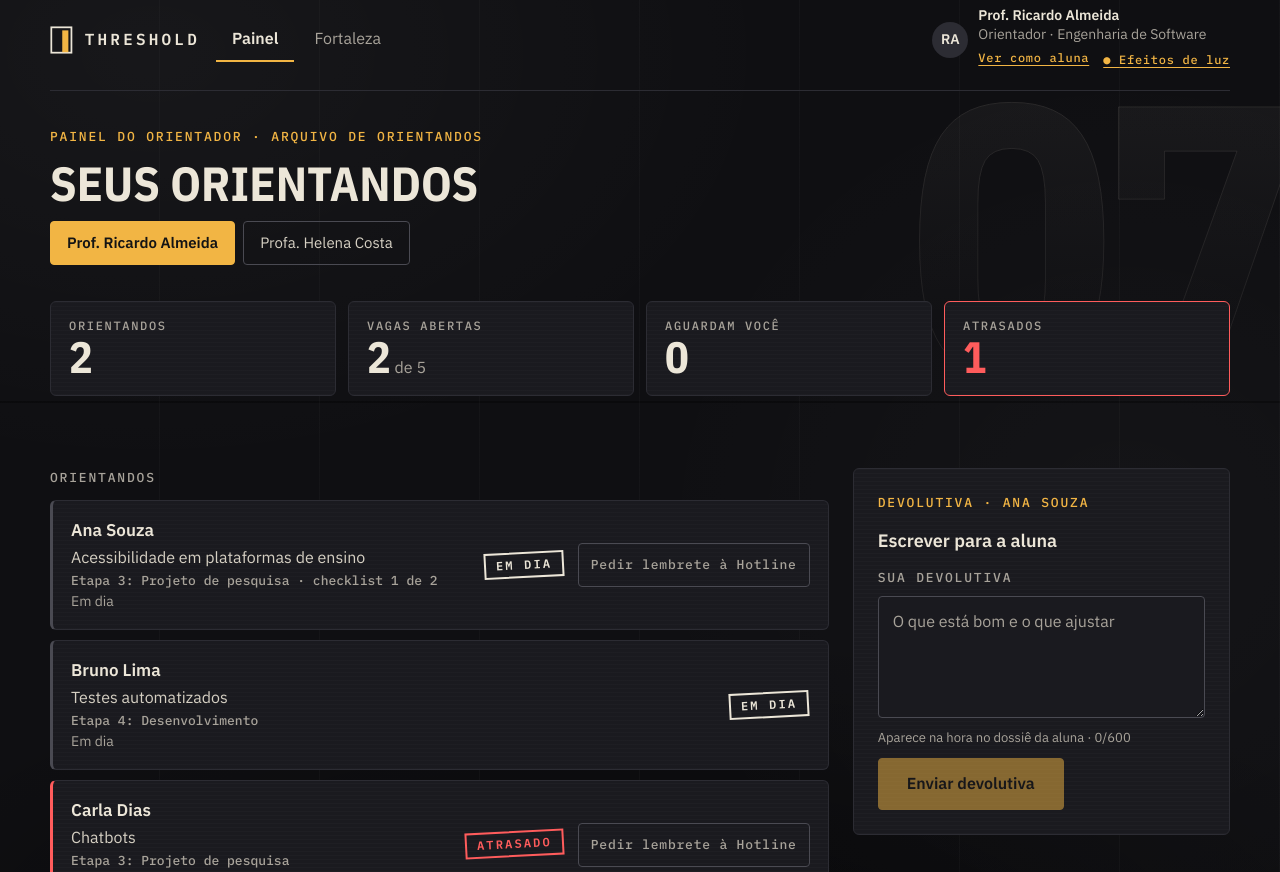
Test: Painel do orientador › enviar devolutiva: botão só liga com texto, manda ao servidor e limpa o campo
Expected: the button "Enviar devolutiva" is disabled, [878,758,1064,810]
Type "Bom recorte." into the text box labelled "Sua devolutiva" at (1041, 657), box [878,596,1205,718]
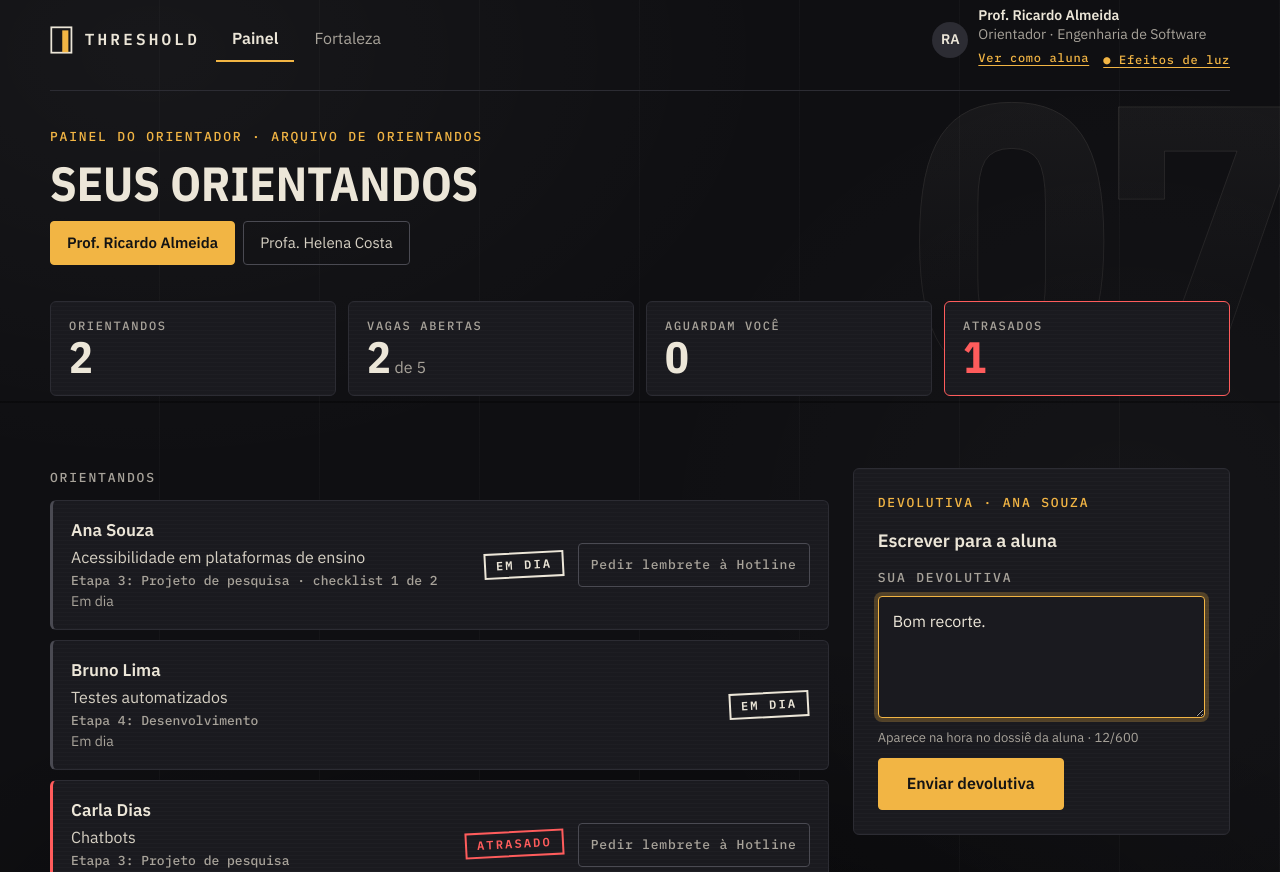
Click the button "Enviar devolutiva" at (971, 784), box [878,758,1064,810]
(page scrolled)
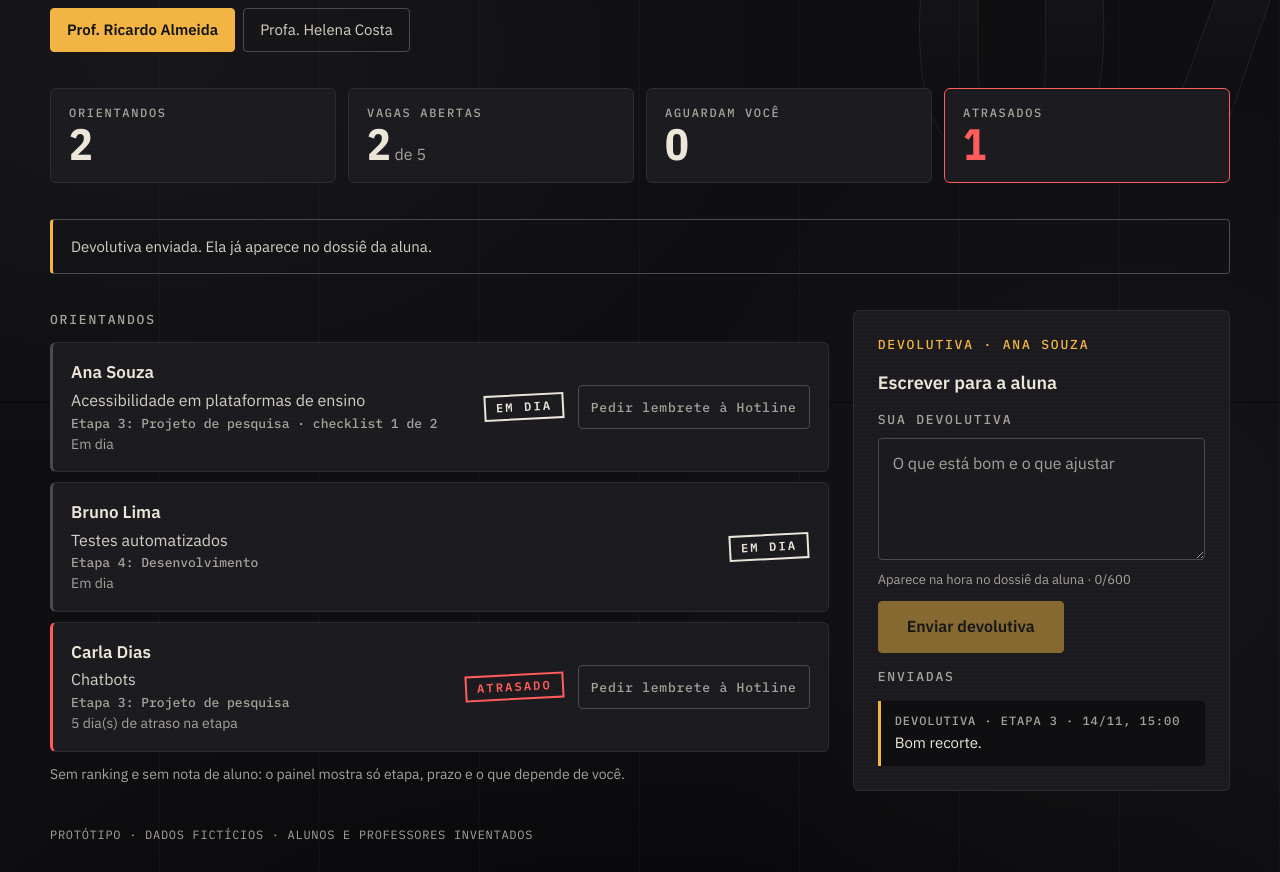
Result: the text "Devolutiva enviada. Ela já aparece no dossiê da aluna." is shown at [50,219,1230,274]
Result: the text box labelled "Sua devolutiva" is empty at [878,438,1205,560]
Result: the text "Bom recorte." is shown at [895,733,982,752]
